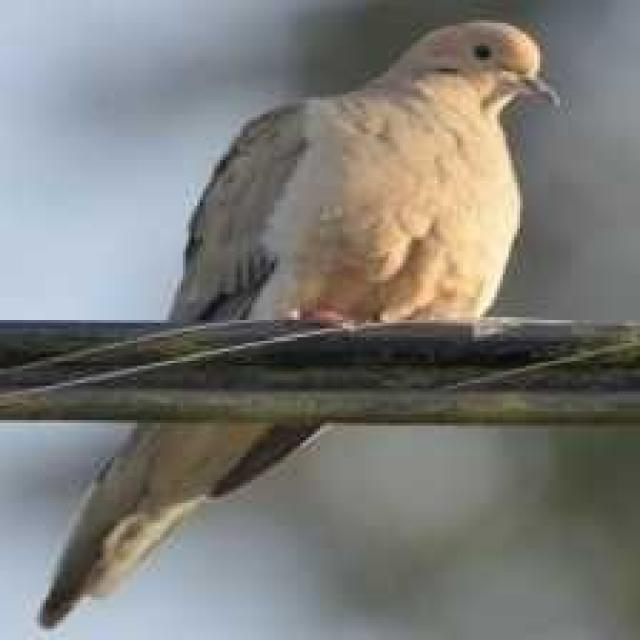dove: (39, 11, 564, 634)
